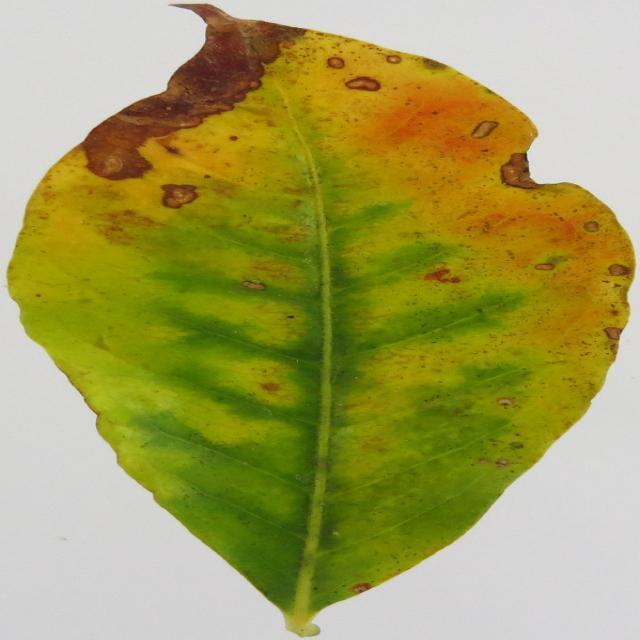DeficienciaNutricional-Fosforo: (10, 5, 634, 636)
